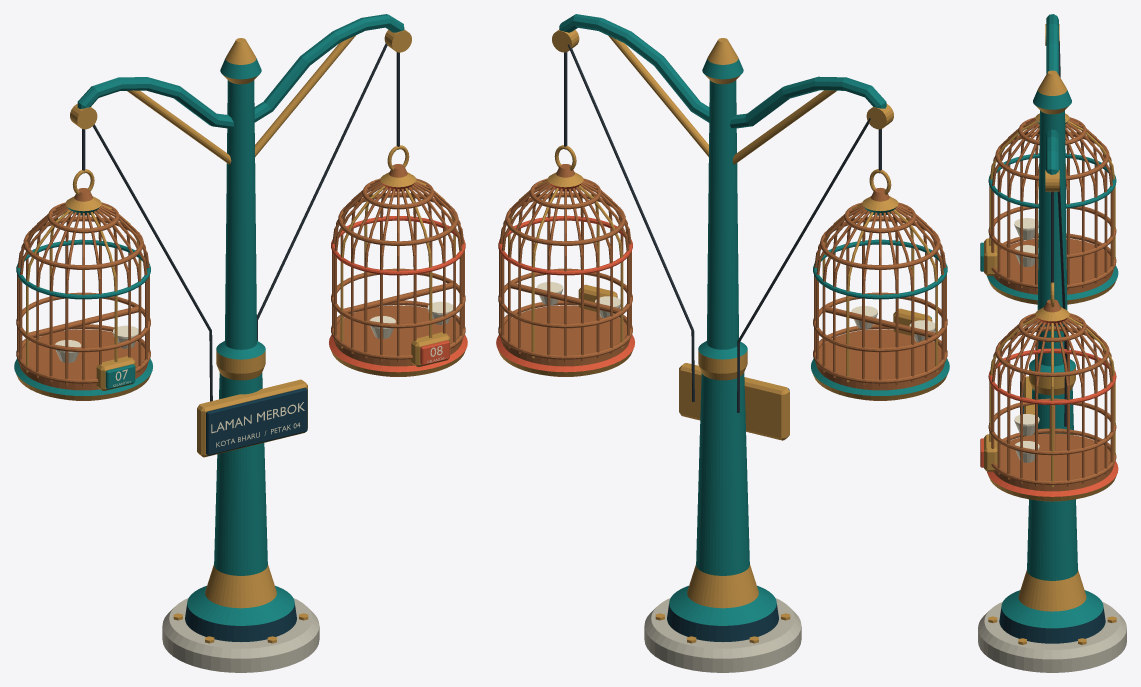
3 renders of one model, left to right at view 1: azimuth 30°, elevation 25°; view 2: azimuth 150°, elevation 25°; view 3: azimuth 270°, elevation 25°, orthographic. The views are drawn at different scales.
Visible parts, largest first — view 1: Cast Hoisting Standard, Split Bamboo Cage 08, Split Bamboo Cage 07, Ground Enamel Plaque; view 2: Cast Hoisting Standard, Split Bamboo Cage 07, Split Bamboo Cage 08, Ground Enamel Plaque; view 3: Cast Hoisting Standard, Split Bamboo Cage 08, Split Bamboo Cage 07, Ground Enamel Plaque.
Part boxes in pixels (bbox=[...]): Cast Hoisting Standard: bbox=[70, 14, 411, 672]; Split Bamboo Cage 08: bbox=[329, 145, 467, 376]; Split Bamboo Cage 07: bbox=[14, 169, 152, 400]; Ground Enamel Plaque: bbox=[197, 379, 307, 457]; Cast Hoisting Standard: bbox=[552, 14, 893, 672]; Split Bamboo Cage 07: bbox=[811, 169, 949, 400]; Split Bamboo Cage 08: bbox=[496, 145, 634, 376]; Ground Enamel Plaque: bbox=[679, 363, 789, 440]; Cast Hoisting Standard: bbox=[978, 14, 1126, 672]; Split Bamboo Cage 08: bbox=[980, 282, 1118, 501]; Split Bamboo Cage 07: bbox=[980, 113, 1118, 304]; Ground Enamel Plaque: bbox=[1020, 376, 1034, 436].
Bounding box in the file's own units: 2.24 × 2.95 × 0.7.
